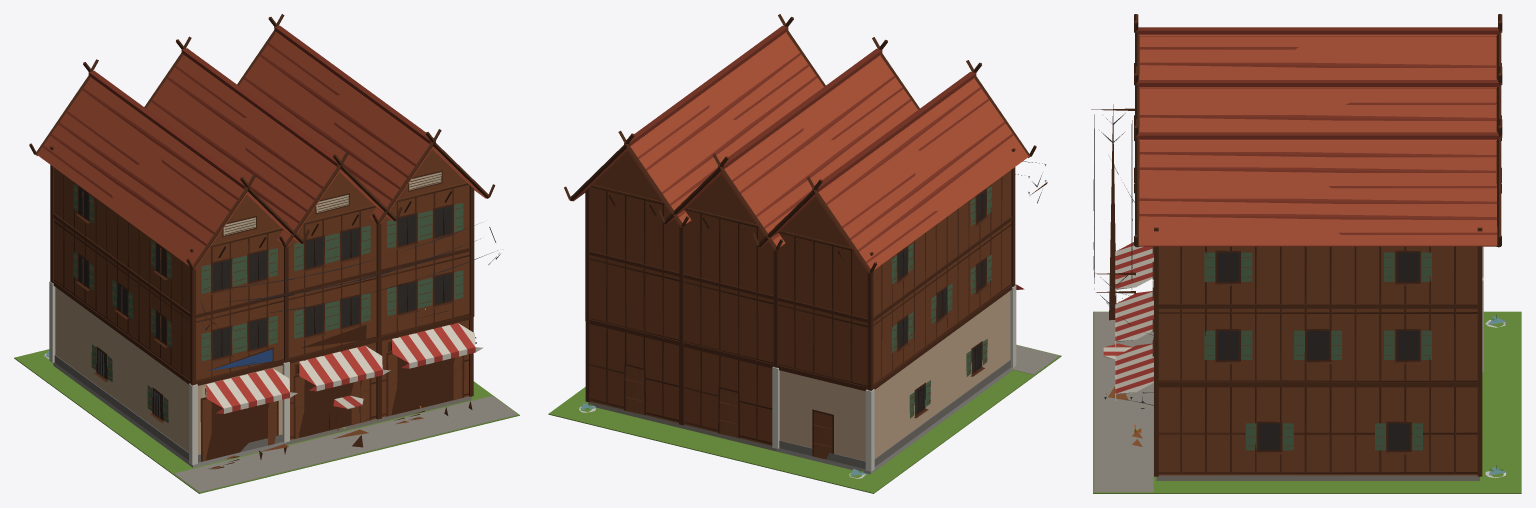
Rendered from shop_4.glb.
3 views of the same model, side by side, from view 1: azimuth 30°, elevation 25°; view 2: azimuth 150°, elevation 25°; view 3: azimuth 270°, elevation 25° (orthographic). The views are drawn at different scales.
Parts seen in each view (by area): view 1: body, windows; view 2: body, windows; view 3: body, windows.
Boxes of the visible parts, x1,y1,x2,y2 form: body: (14,14,519,493); windows: (78,188,452,418); body: (548,14,1061,493); windows: (897,190,986,414); body: (1091,14,1521,493); windows: (1217,252,1418,450).
Bounding box in the file's own units: 15.9 × 13.66 × 16.
